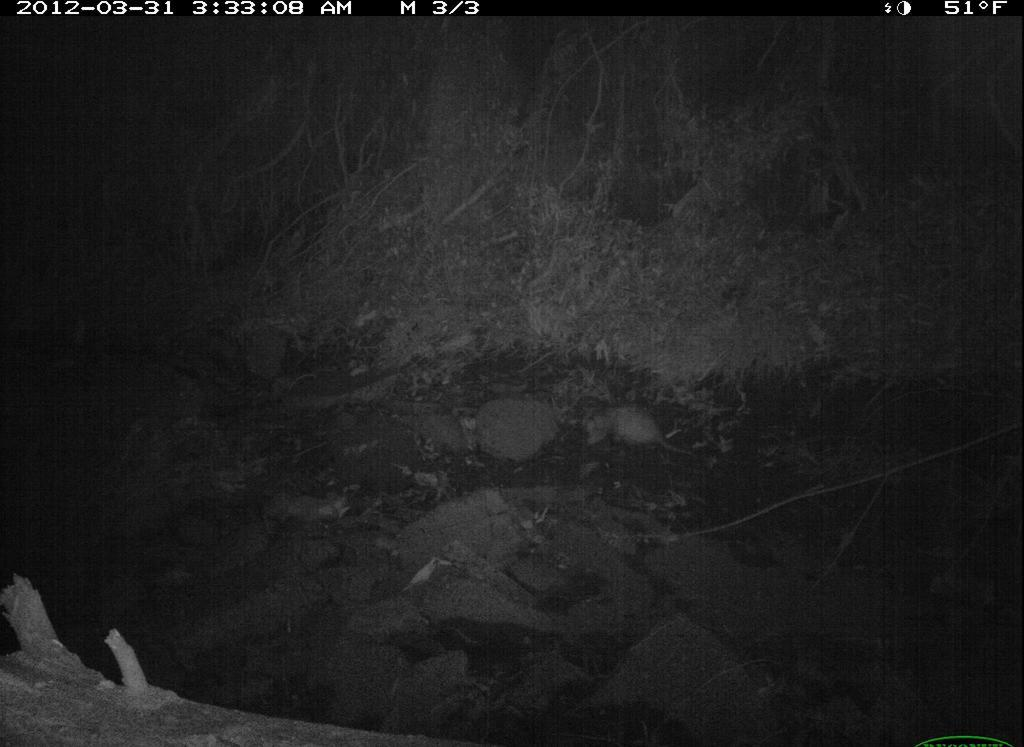opossum: (573, 391, 712, 472)
